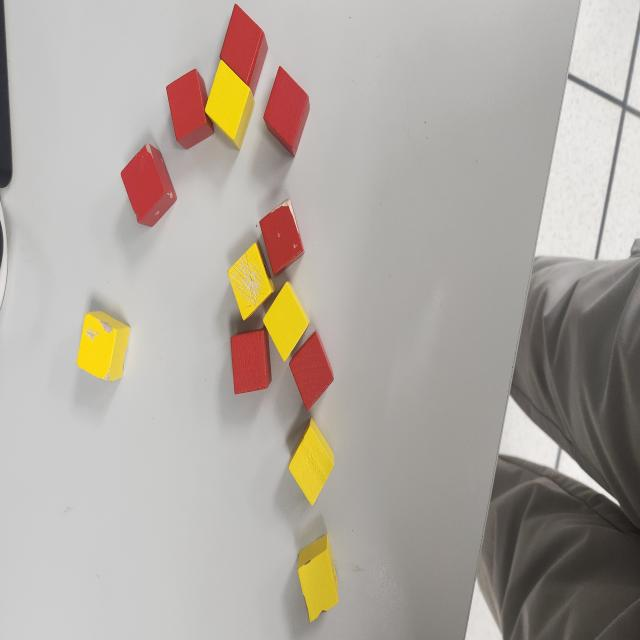broken: (121, 141, 177, 228), (288, 417, 336, 506), (77, 310, 132, 382), (296, 533, 339, 623), (228, 242, 276, 320), (258, 199, 304, 277)
red: (218, 3, 268, 97), (262, 66, 310, 160), (166, 69, 212, 151), (288, 330, 334, 412), (230, 328, 272, 396)
yellow: (204, 59, 255, 150), (262, 280, 310, 364)
